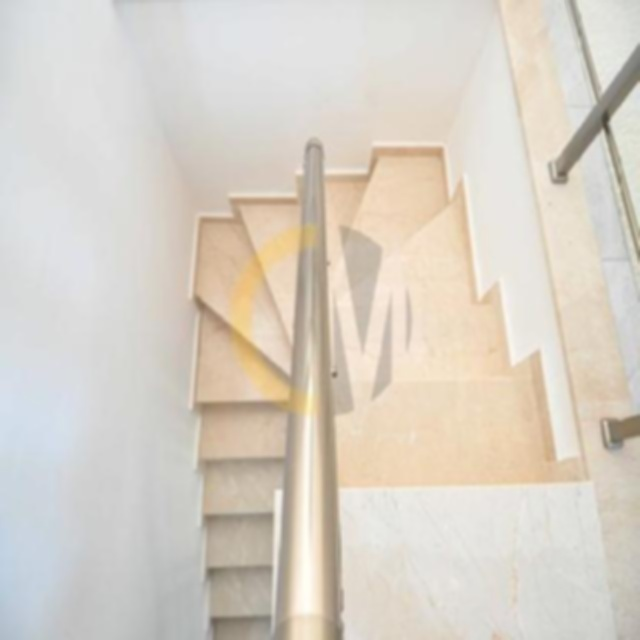stair: (162, 132, 593, 639)
